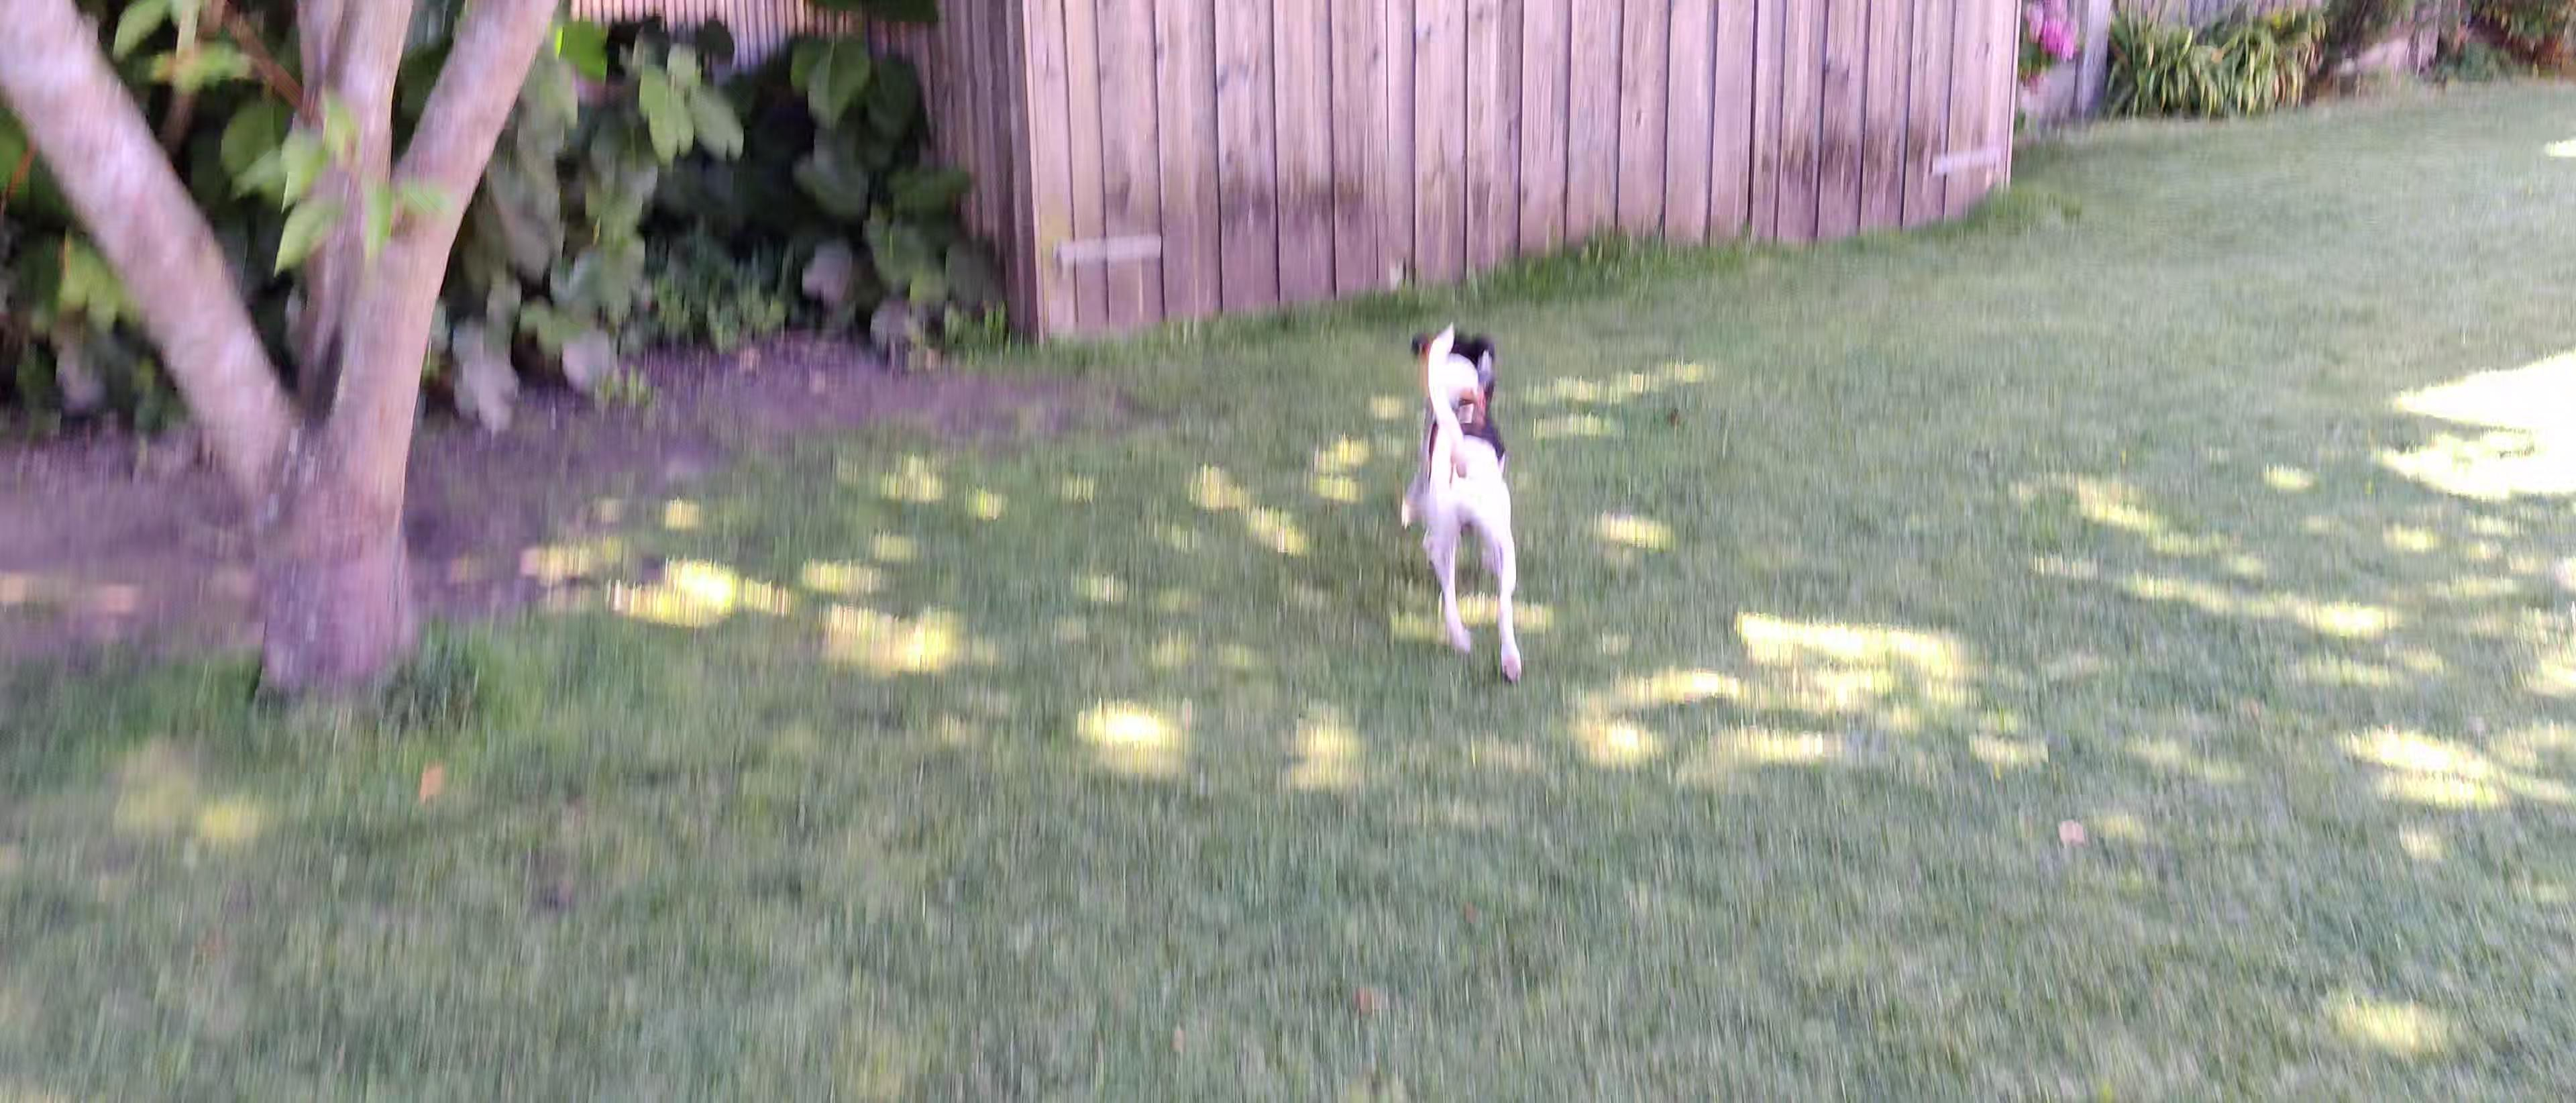Dog: (1396, 316, 1531, 685)
